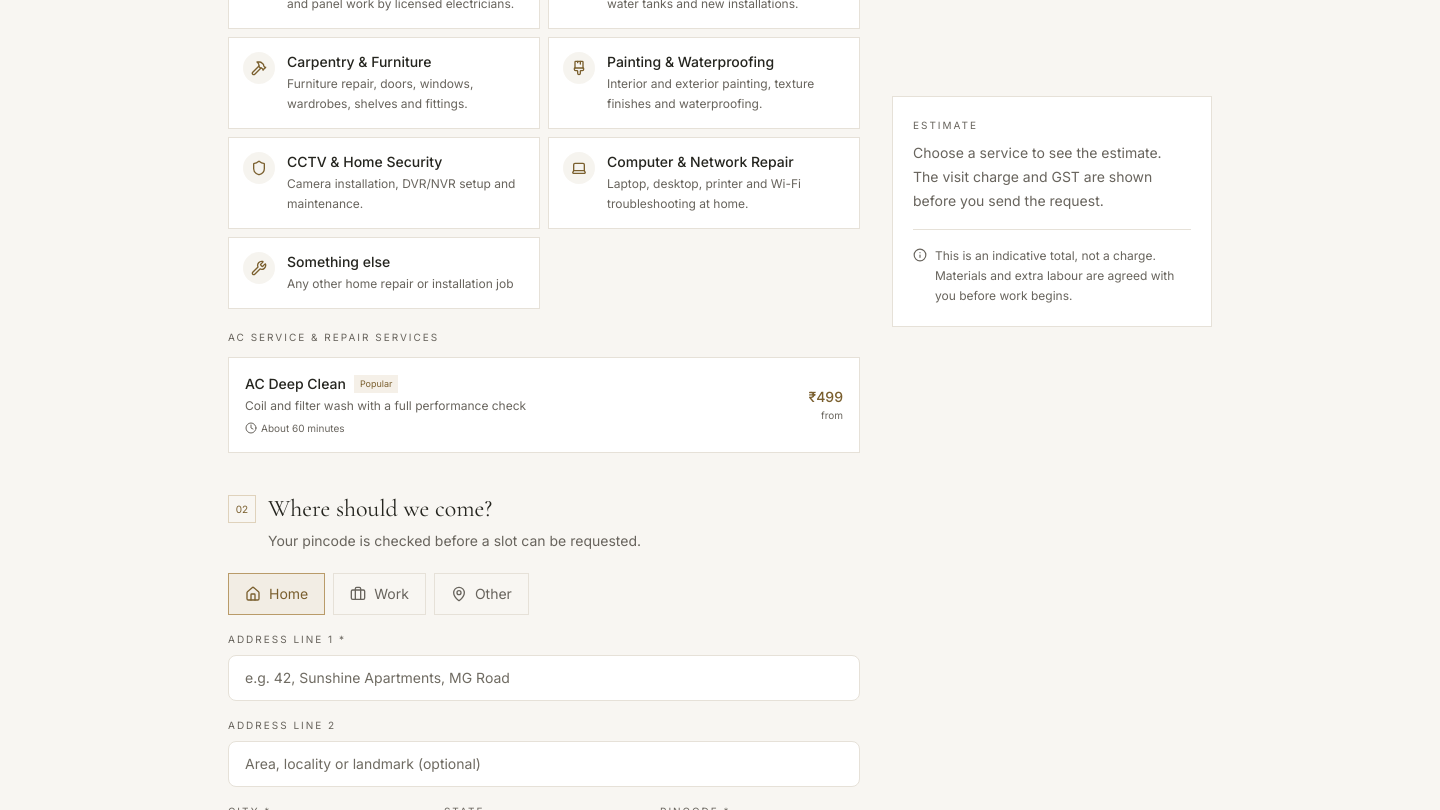
Test: booking flow — coverage and schedule › requires a date and an arrival window before review
(page scrolled)
Click the button "AC Deep Clean".
click(295, 384)  # box [228,357,860,453]
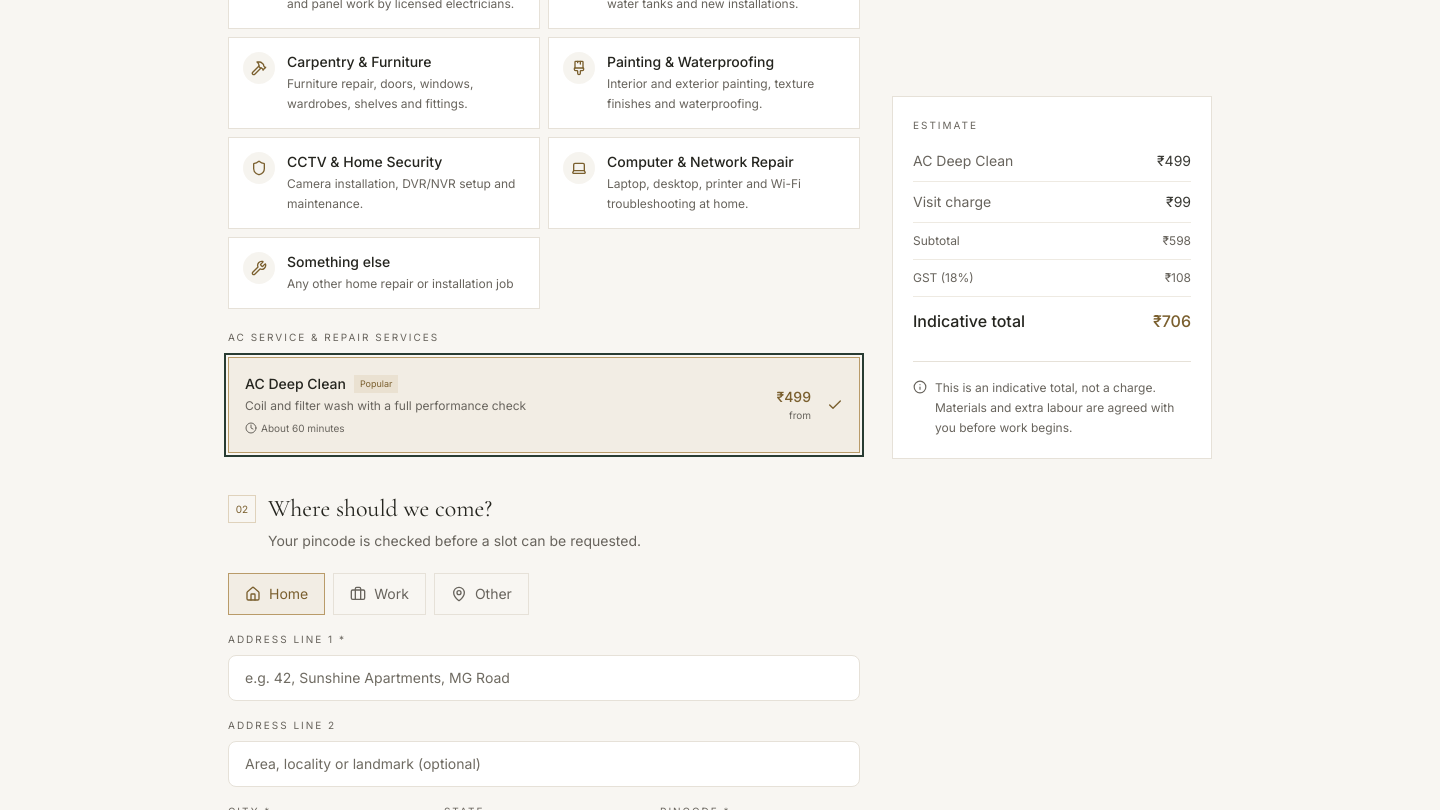
Type "42, Sunshine Apartments" into the field labelled "Address line 1 *".
click(544, 678); type("42, Sunshine Apartments")  # box [228,655,860,701]
(page scrolled)
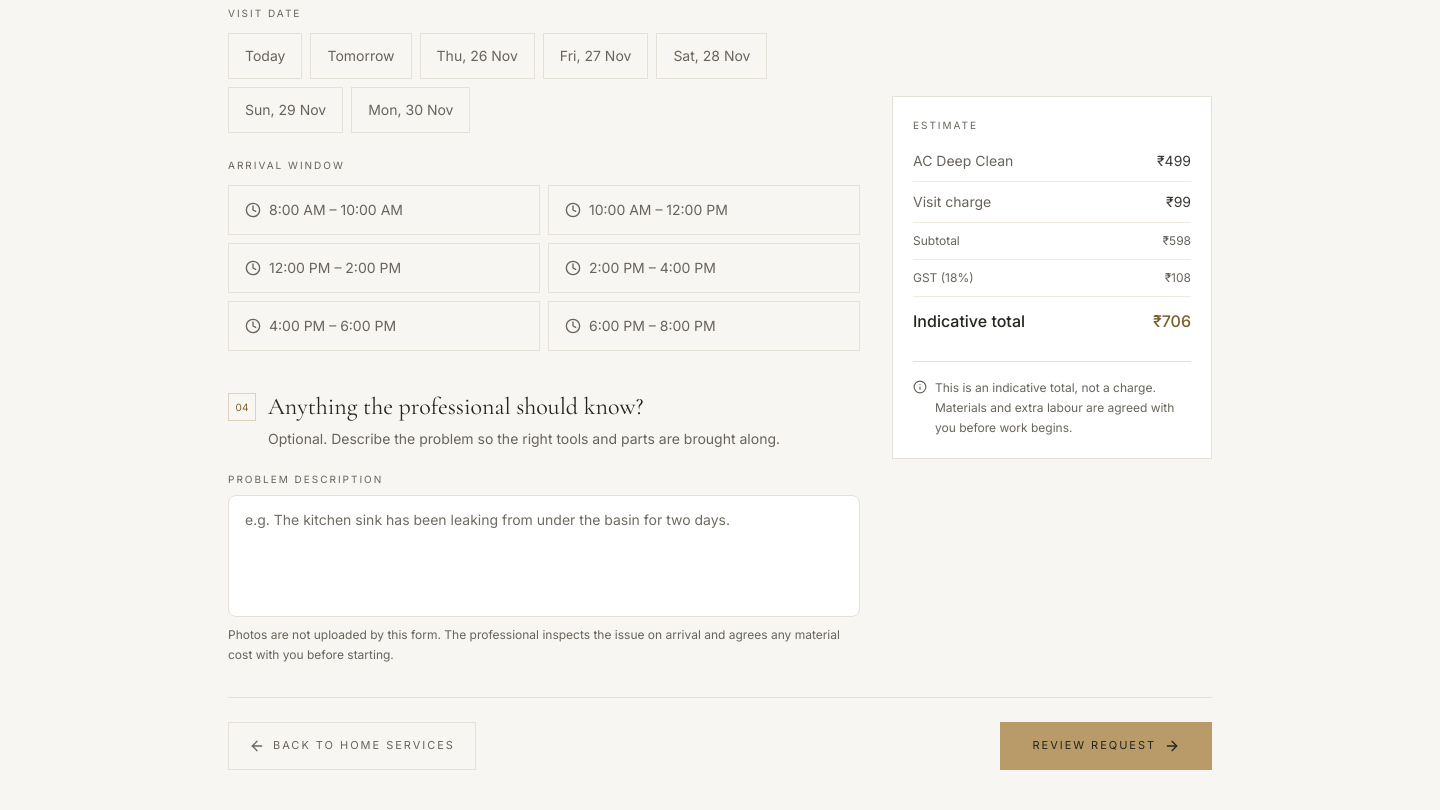
Click the button "Review request".
click(1106, 746)  # box [1000,722,1212,770]
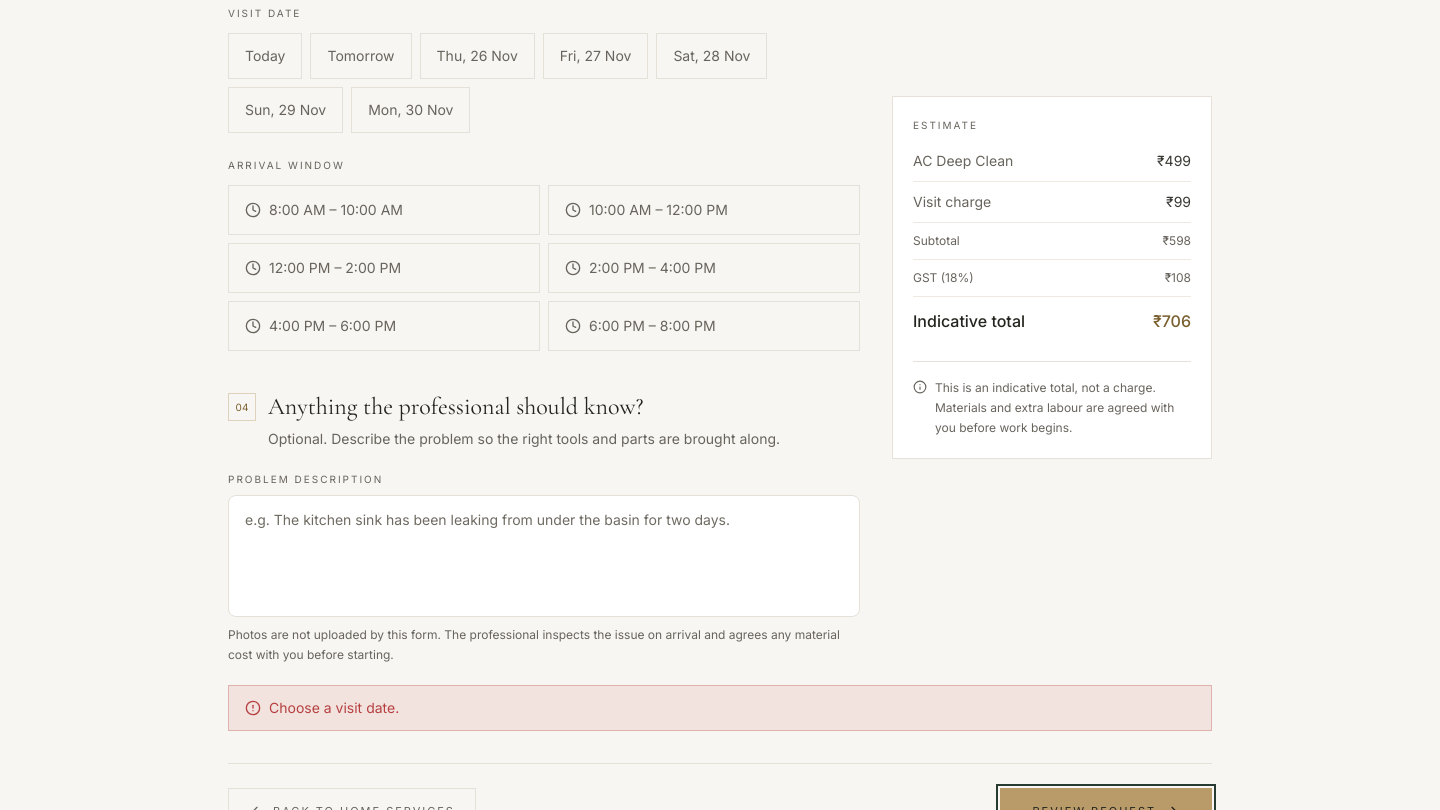
Expected: the message shows "Choose a visit date", [269,699,399,716]
Click the button "Tomorrow".
click(361, 56)  # box [310,33,412,79]
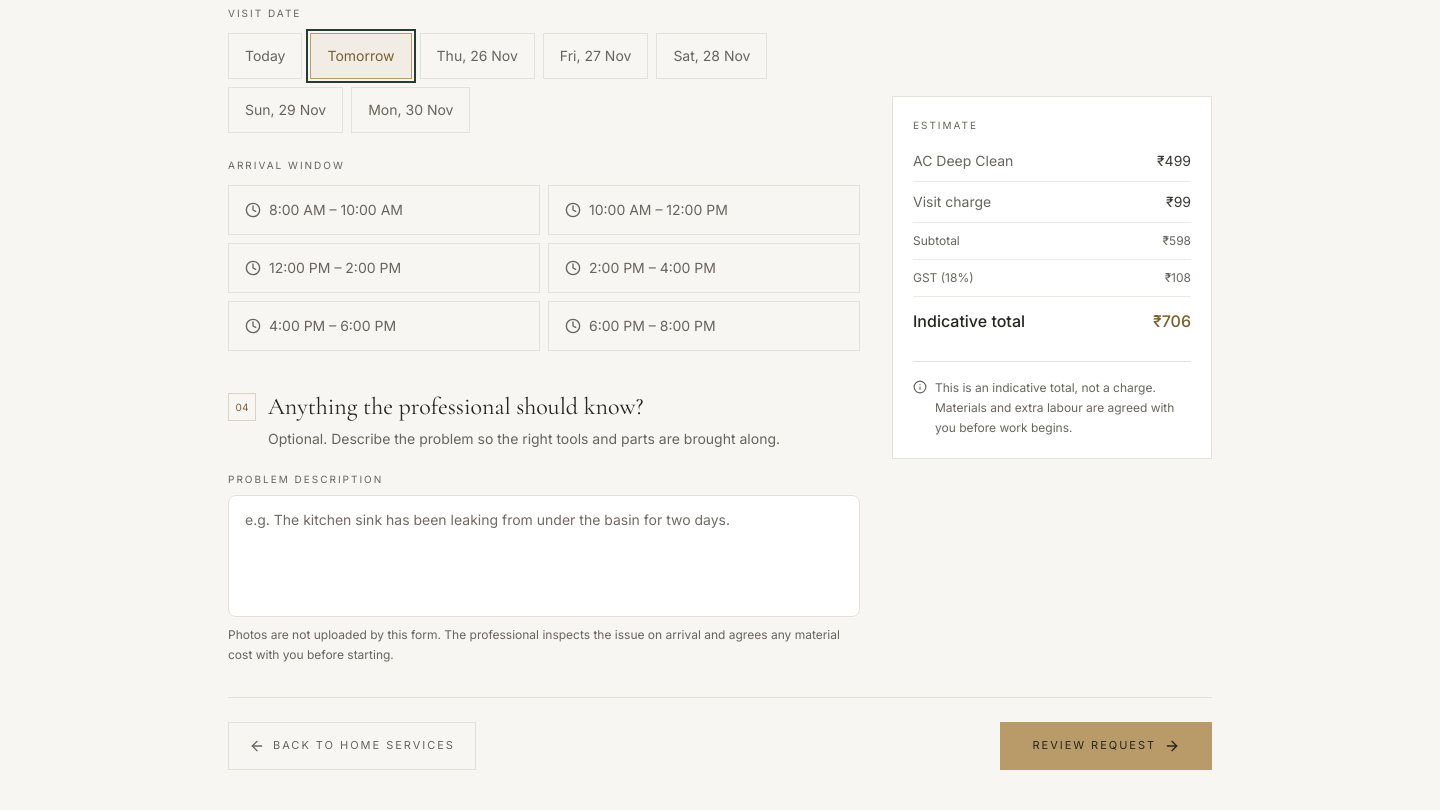
Click the button "8:00 AM – 10:00 AM".
click(384, 210)  # box [228,185,540,235]
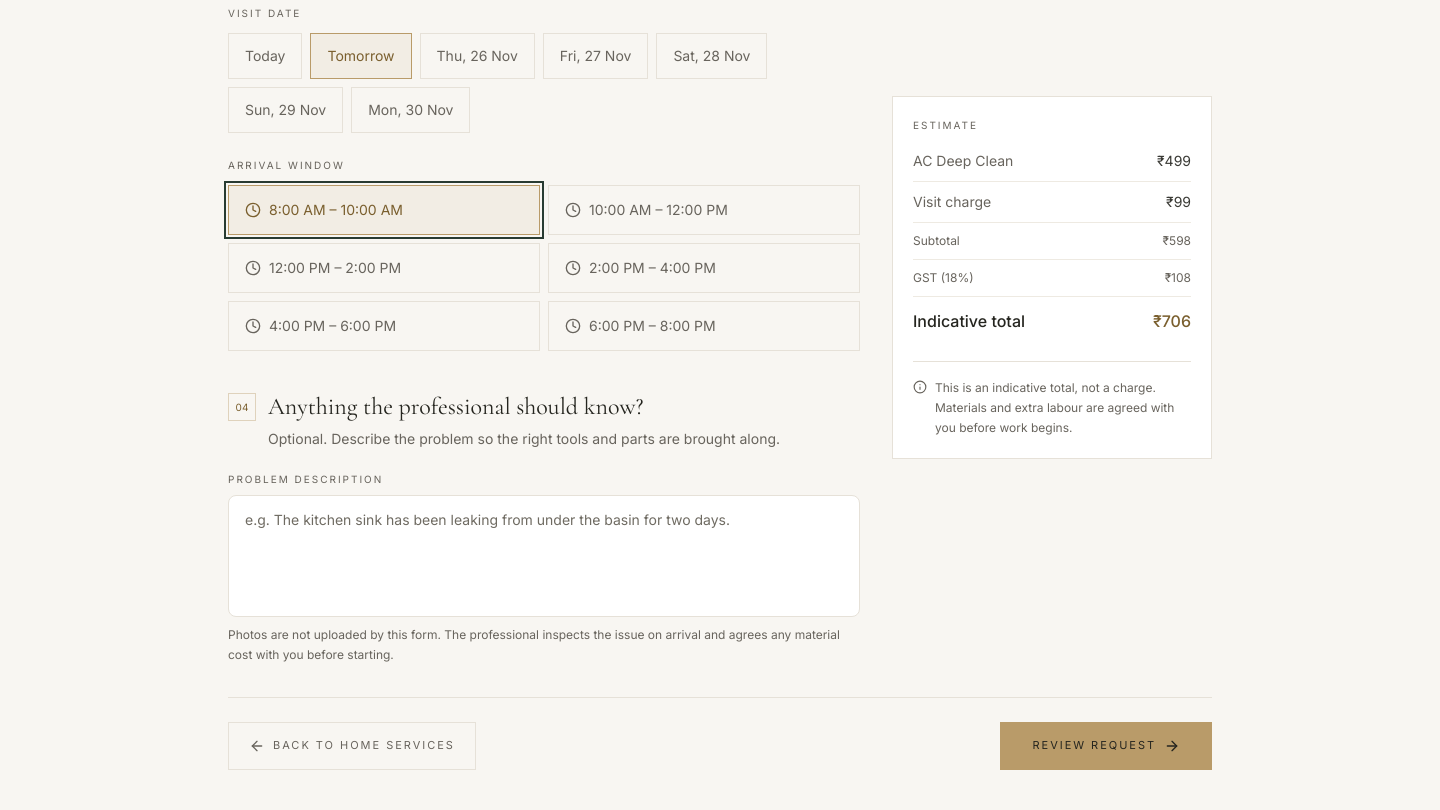
Click the button "Review request".
click(1106, 746)  # box [1000,722,1212,770]
(page scrolled)
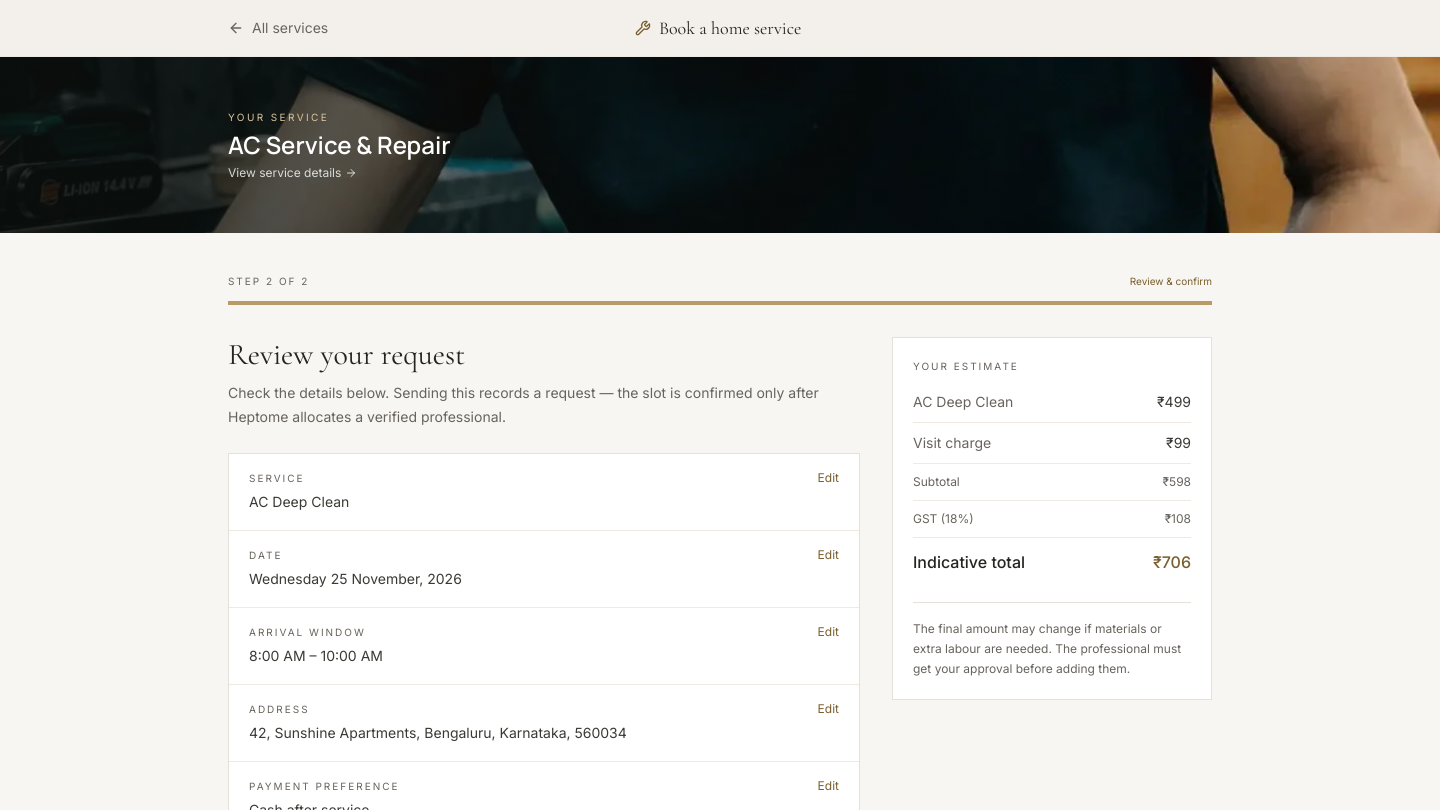
Expected: the heading "Review your request" is shown, [228,336,465,373]
Expected: the text "Step 2 of 2" is shown, [228,273,309,289]
